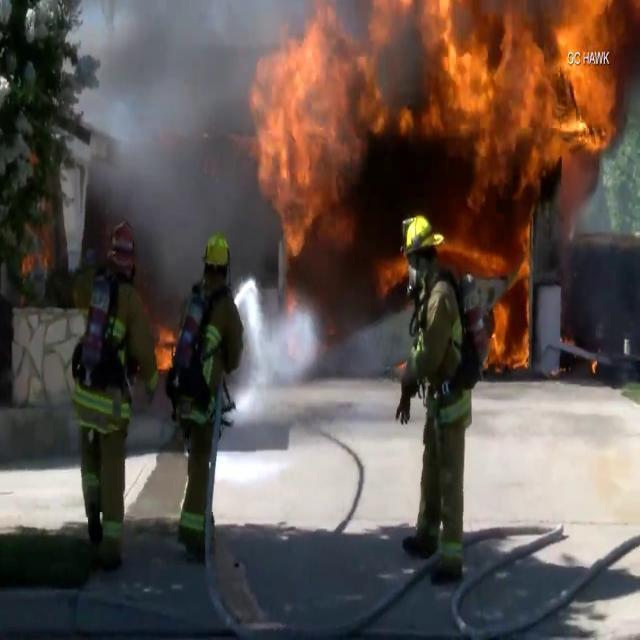Fire: (238, 1, 630, 320)
Smoke: (69, 0, 274, 282)
